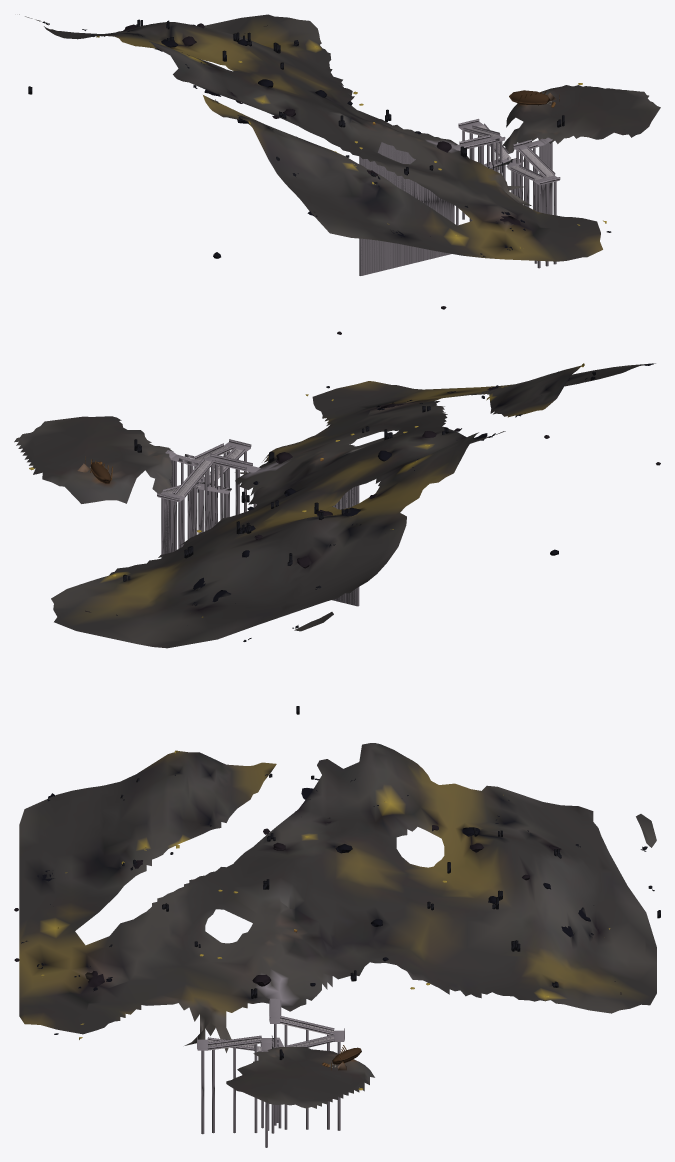
Rendered from ash_isl_ember_wreck_lod1.glb.
3 views of the same model, one above another, from view 1: azimuth 30°, elevation 25°; view 2: azimuth 150°, elevation 25°; view 3: azimuth 270°, elevation 25° (orthographic). The views are drawn at different scales.
Parts seen in each view (by area): view 1: ash_isl_ember_wreck_lod1; view 2: ash_isl_ember_wreck_lod1; view 3: ash_isl_ember_wreck_lod1.
Boxes of the visible parts, bbox=[...] form: ash_isl_ember_wreck_lod1: bbox=[19, 14, 660, 334]; ash_isl_ember_wreck_lod1: bbox=[14, 363, 660, 714]; ash_isl_ember_wreck_lod1: bbox=[14, 743, 660, 1147].
Size of the model in its own units: 203 by 97.87 by 243.
